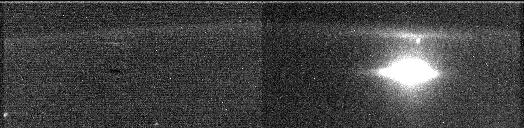positive: (413, 38, 423, 46)
